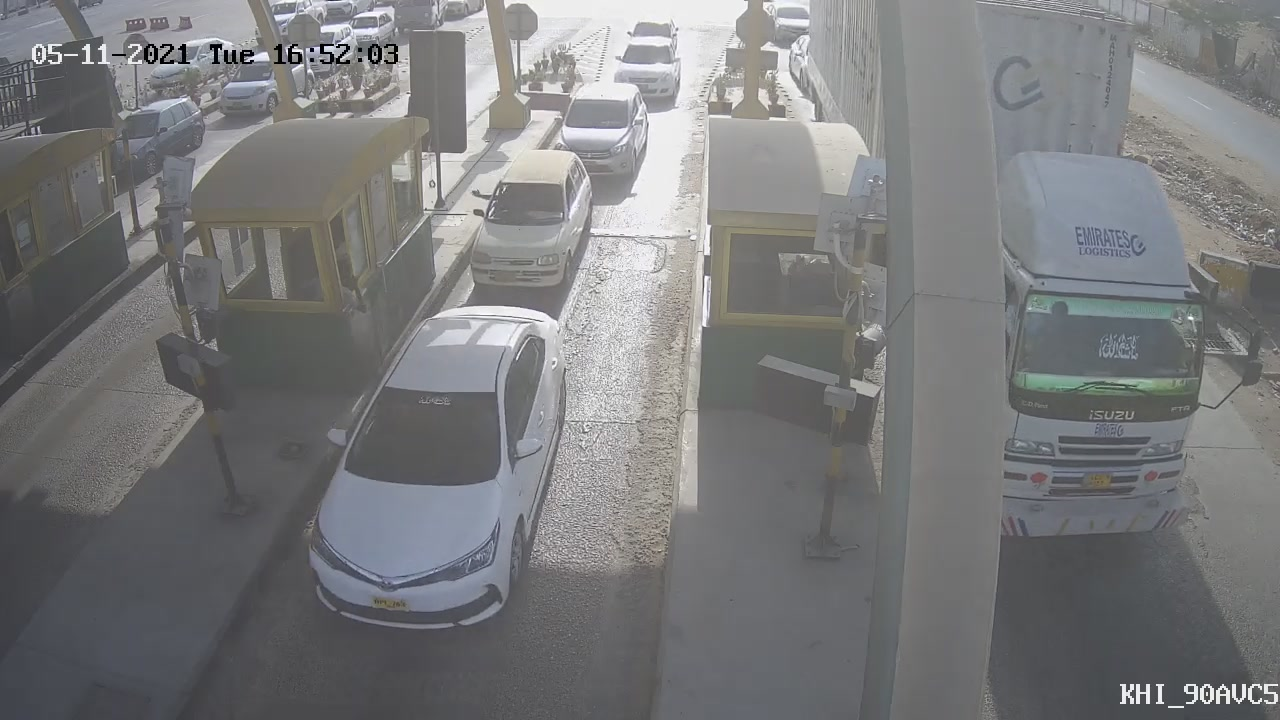F1: (453, 136, 613, 321), (540, 73, 664, 190)
